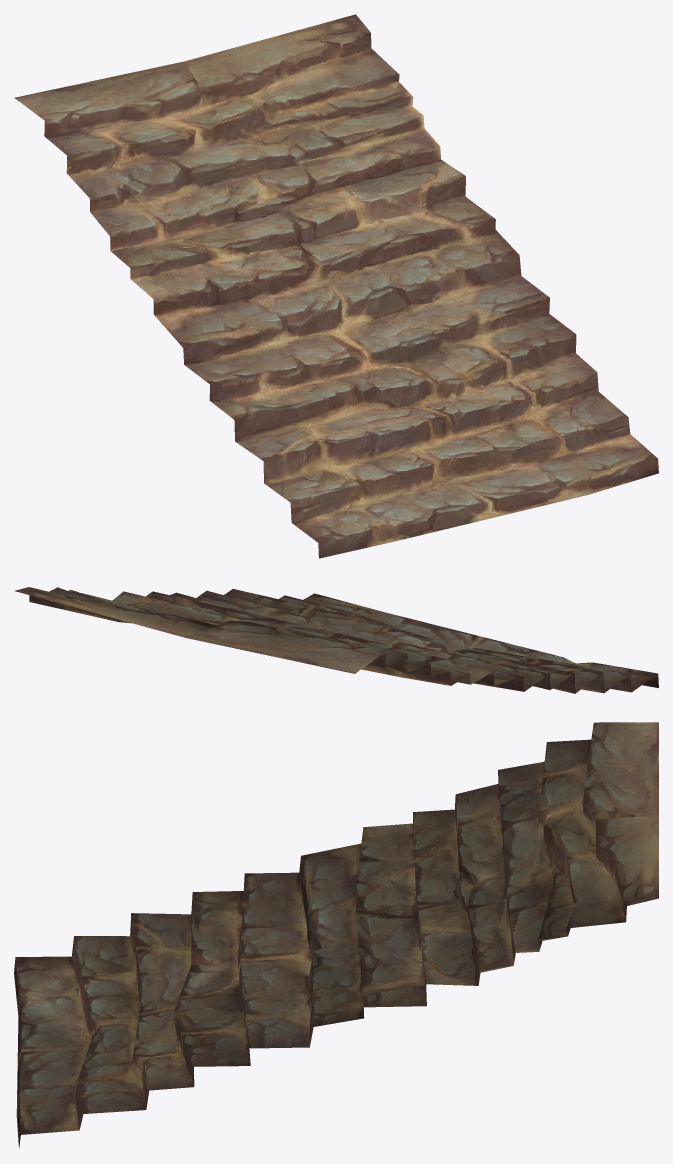
File: Other_4.FBX
The picture shows the model from 3 angles, top to bottom: view 1: azimuth 30°, elevation 25°; view 2: azimuth 150°, elevation 25°; view 3: azimuth 270°, elevation 25°; orthographic projection. The views are drawn at different scales.
Visible parts, largest first — view 1: Other_4; view 2: Other_4; view 3: Other_4.
Boxes of the visible parts, box(x1,y1,x2,y2) form: Other_4: box(14, 14, 658, 558); Other_4: box(14, 587, 658, 693); Other_4: box(14, 722, 658, 1148).
Size of the model in its own units: 681 by 458 by 1051.
